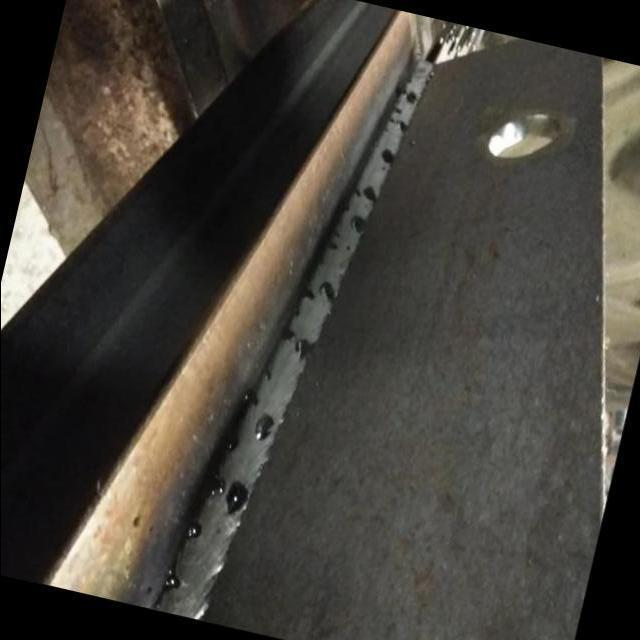defect: (204, 472, 250, 519), (289, 335, 317, 367), (251, 407, 274, 443), (383, 104, 409, 134), (183, 518, 205, 546), (353, 183, 378, 205), (379, 145, 396, 174), (318, 277, 337, 302), (241, 385, 259, 406), (351, 210, 365, 236), (400, 89, 418, 106), (222, 434, 239, 452), (298, 286, 315, 303), (329, 228, 340, 250), (281, 326, 296, 342), (263, 366, 273, 382), (293, 307, 302, 316), (343, 244, 352, 253)
